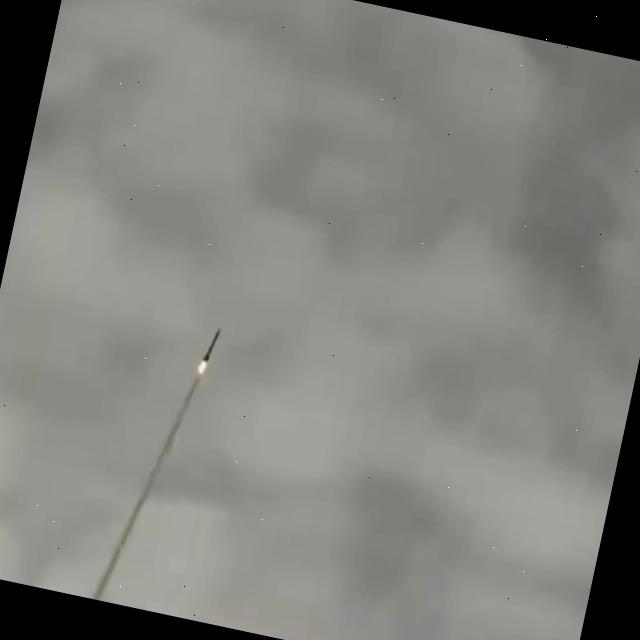smoke_trail_with_rocket: (87, 330, 222, 601)
